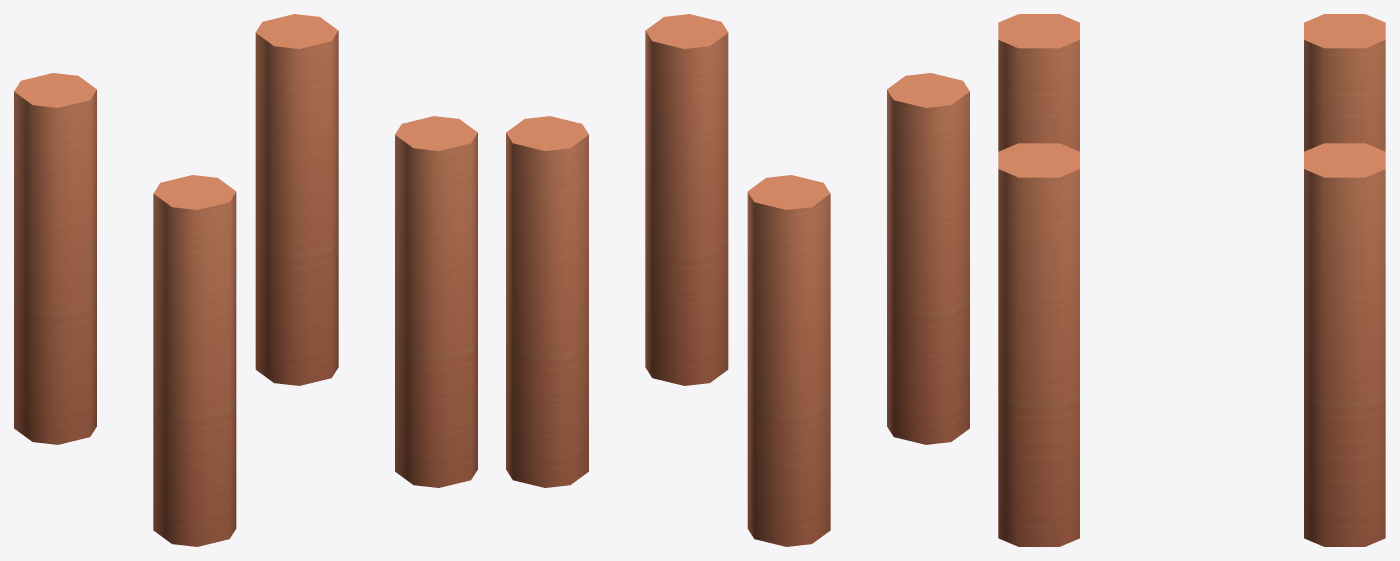
The model's file is supports.glb.
3 renders of one model, left to right at view 1: azimuth 30°, elevation 25°; view 2: azimuth 150°, elevation 25°; view 3: azimuth 270°, elevation 25°, orthographic. The views are drawn at different scales.
Parts seen in each view (by area): view 1: supports; view 2: supports; view 3: supports.
Part boxes in pixels (x1,y1,x2,y2): supports: (14,14,477,546); supports: (506,14,969,546); supports: (998,14,1385,546).
Bounding box in the file's own units: 0.95 × 1 × 0.95.
1 material, 1 textured.
